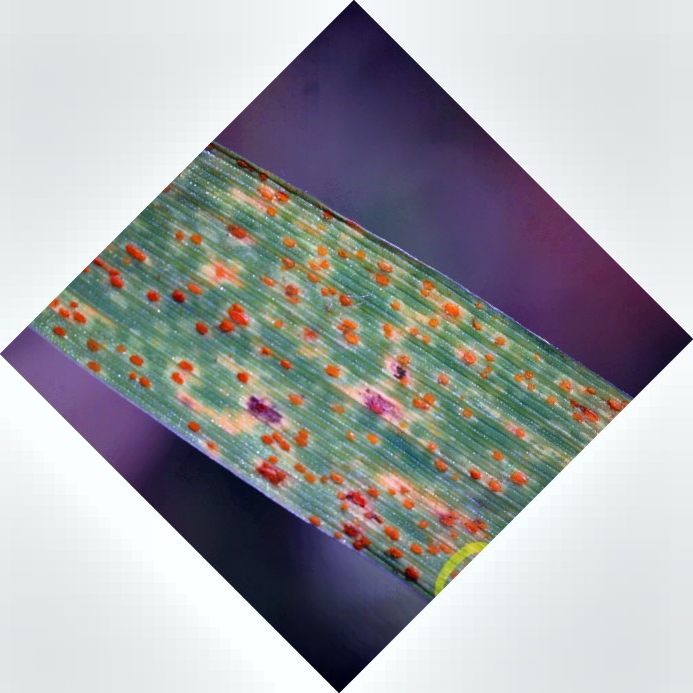Leaf Rust: (88, 186, 514, 571)
